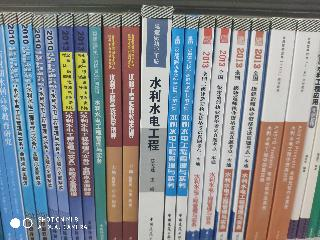book-spine: (262, 18, 320, 240), (245, 17, 295, 240), (228, 19, 268, 239), (134, 7, 170, 240), (3, 14, 38, 240), (214, 17, 249, 240), (198, 17, 231, 239), (19, 14, 50, 240), (186, 16, 214, 239), (32, 17, 60, 239), (0, 16, 26, 240), (45, 16, 70, 238), (59, 15, 83, 240), (175, 18, 197, 240), (76, 15, 95, 238), (165, 17, 183, 239), (105, 15, 122, 239), (122, 14, 138, 239), (90, 15, 106, 238)
